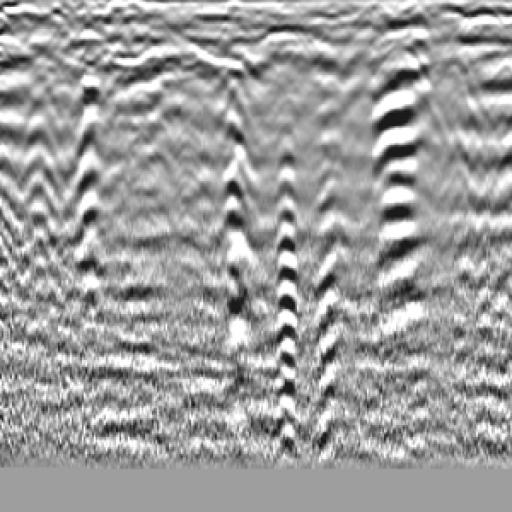metalic: (357, 38, 453, 203)
